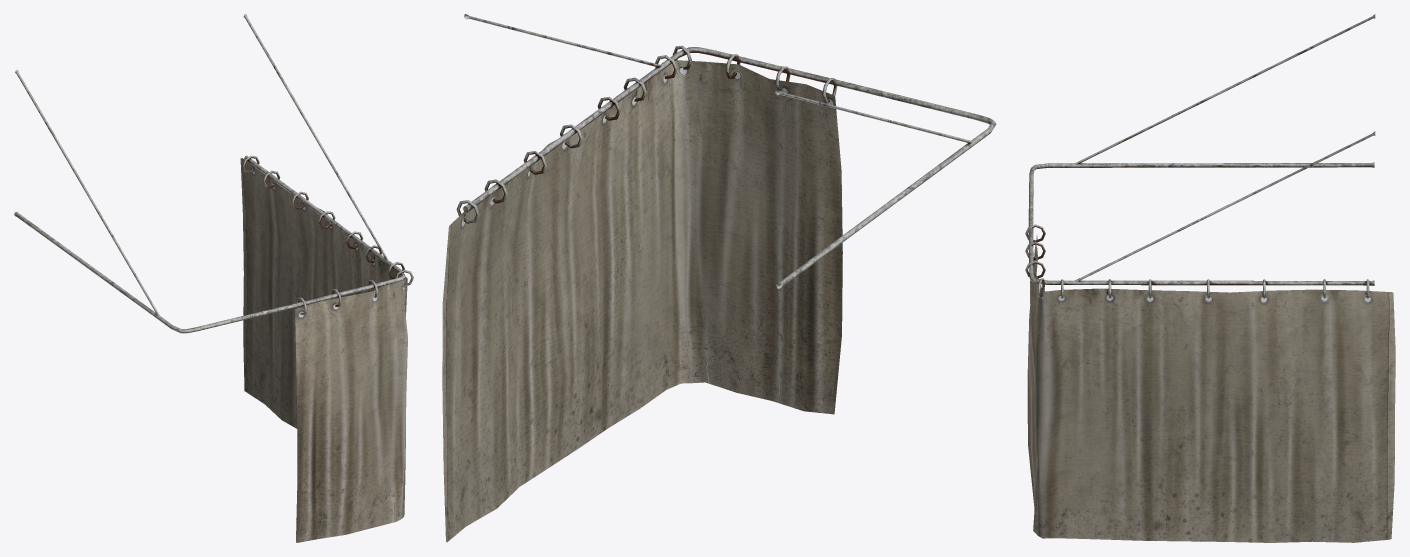
The model's file is CurtainWithBackAndFront.fbx.
The picture shows the model from 3 angles, left to right: view 1: azimuth 30°, elevation 25°; view 2: azimuth 150°, elevation 25°; view 3: azimuth 270°, elevation 25°; orthographic projection. The views are drawn at different scales.
Visible parts, largest first — view 1: Curtain, Curtain.001; view 2: Curtain.001, Curtain; view 3: Curtain, Curtain.001.
Boxes of the visible parts, x1,y1,x2,y2 form: Curtain: (14, 14, 413, 542); Curtain.001: (240, 158, 406, 542); Curtain.001: (443, 61, 842, 542); Curtain: (442, 14, 996, 541); Curtain: (1025, 14, 1394, 542); Curtain.001: (1033, 236, 1395, 539).
Size of the model in its own units: 527 by 794 by 656.
